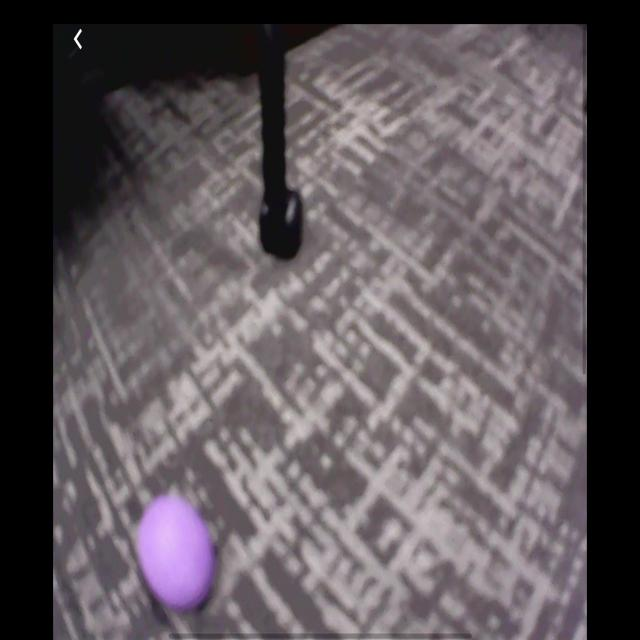ball: (139, 497, 215, 613)
